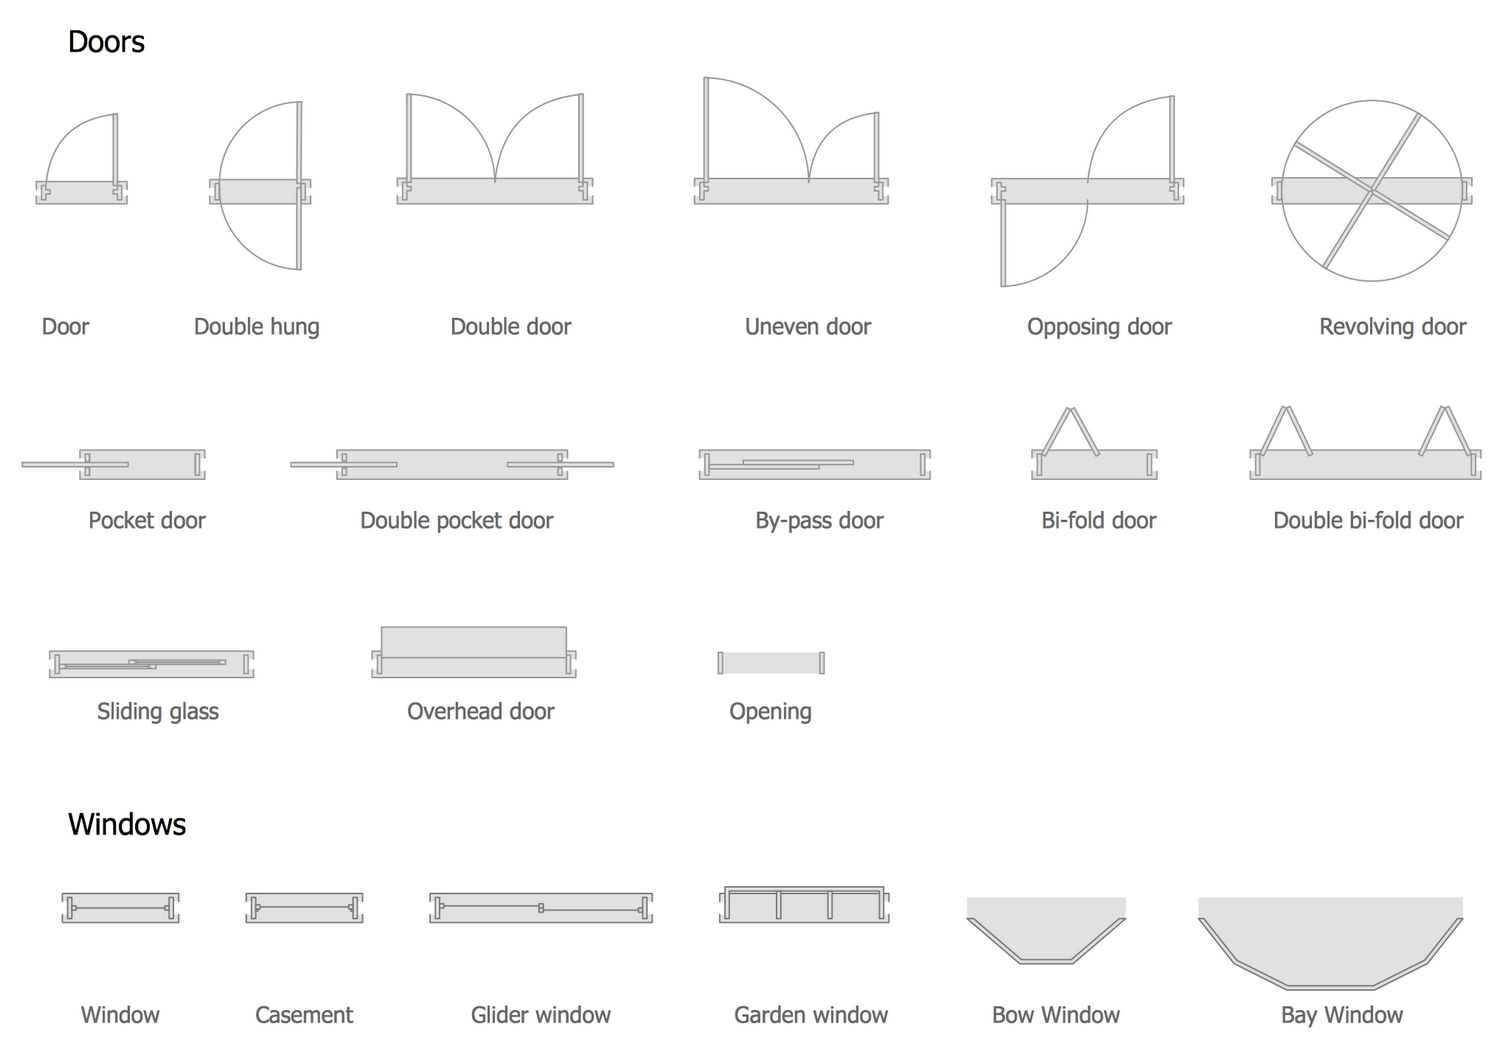door: (1281, 80, 1464, 286), (1003, 82, 1173, 291), (275, 430, 636, 495), (685, 419, 945, 504), (706, 66, 877, 176), (409, 81, 581, 176), (1259, 393, 1472, 468), (218, 99, 300, 274), (16, 437, 221, 496), (43, 108, 116, 180), (1042, 392, 1104, 459)
